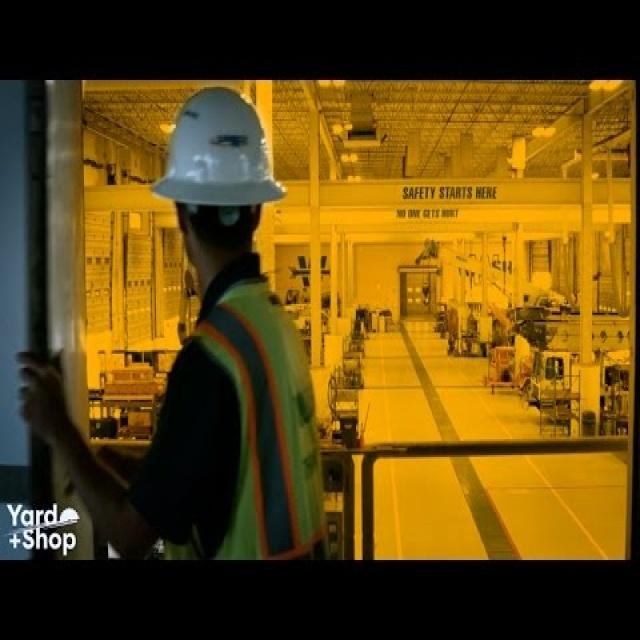helmet: (153, 116, 288, 345)
vest: (158, 349, 331, 640)
